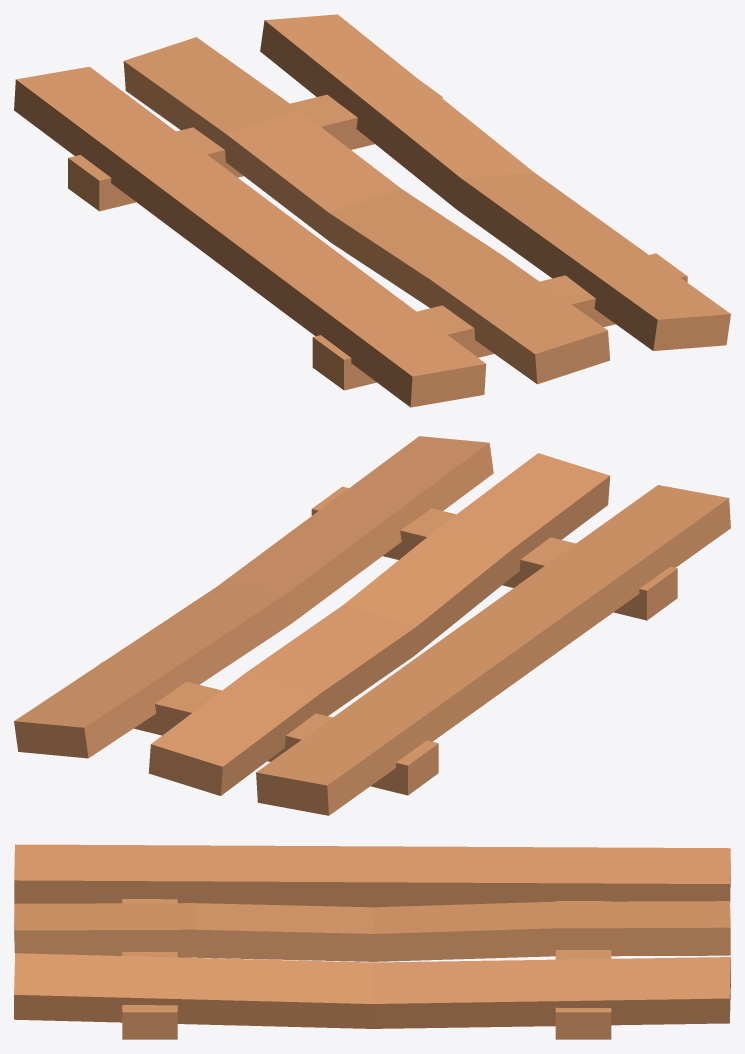
The model's file is woodShelf.fbx.
The picture shows the model from 3 angles, top to bottom: view 1: azimuth 30°, elevation 25°; view 2: azimuth 150°, elevation 25°; view 3: azimuth 270°, elevation 25°; orthographic projection. The views are drawn at different scales.
Visible parts, largest first — view 1: wood_shelf; view 2: wood_shelf; view 3: wood_shelf.
Part boxes in pixels (x1,y1,x2,y2): wood_shelf: [14, 14, 730, 407]; wood_shelf: [14, 436, 730, 815]; wood_shelf: [14, 844, 730, 1039].
Size of the model in its own units: 33.54 by 5.27 by 68.47.
